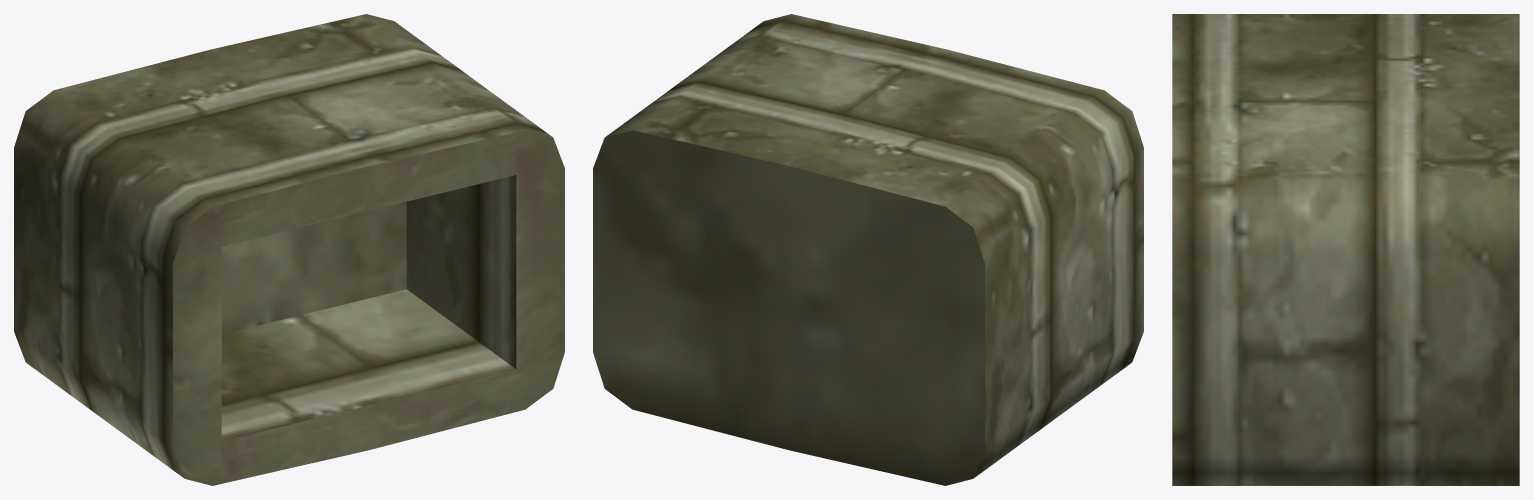
The model's file is hole-water-wall-01.fbx.
The picture shows the model from 3 angles, left to right: view 1: azimuth 30°, elevation 25°; view 2: azimuth 150°, elevation 25°; view 3: azimuth 270°, elevation 25°; orthographic projection. The views are drawn at different scales.
Visible parts, largest first — view 1: Cube.250; view 2: Cube.250; view 3: Cube.250.
Boxes of the visible parts, <box> form: Cube.250: <box>14,14,564,485</box>; Cube.250: <box>593,14,1143,485</box>; Cube.250: <box>1172,14,1519,485</box>.
Size of the model in its own units: 0.7116 by 0.4932 by 0.5.
